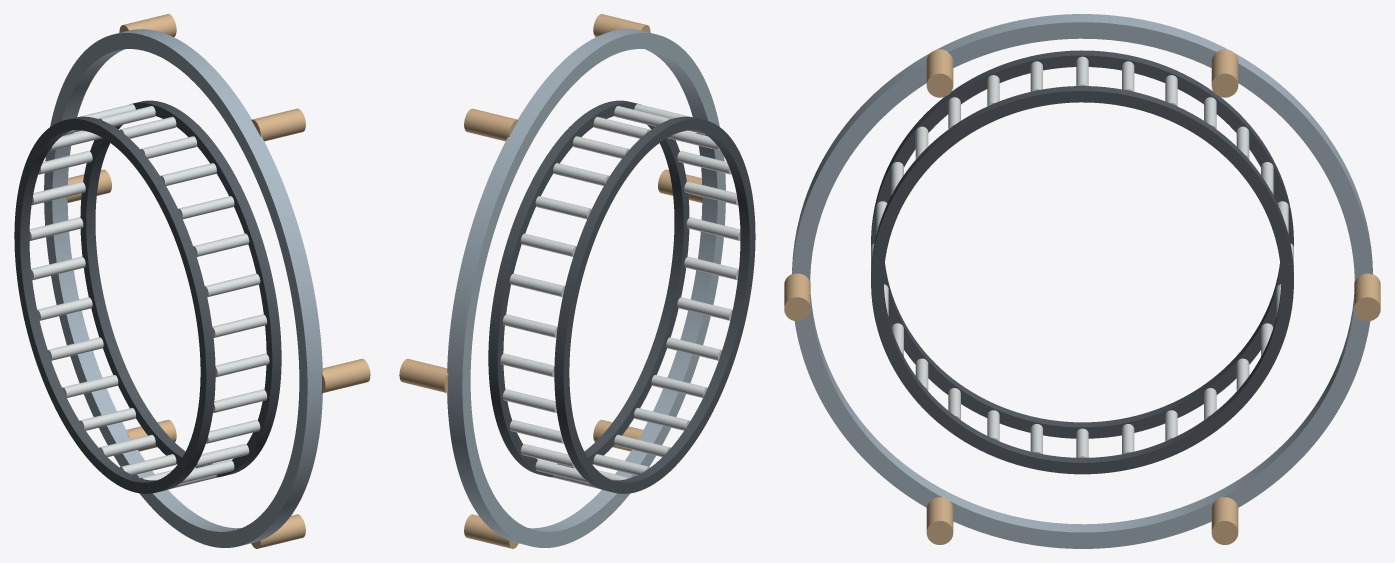
The model's file is bearing-roller-train.glb.
The picture shows the model from 3 angles, left to right: view 1: azimuth 30°, elevation 25°; view 2: azimuth 150°, elevation 25°; view 3: azimuth 270°, elevation 25°; orthographic projection. The views are drawn at different scales.
Visible parts, largest first — view 1: bearing-roller-train - seal, bearing-roller-train - steel, bearing-roller-train - fastener, bearing-roller-train - bronze; view 2: bearing-roller-train - seal, bearing-roller-train - steel, bearing-roller-train - fastener, bearing-roller-train - bronze; view 3: bearing-roller-train - steel, bearing-roller-train - seal, bearing-roller-train - fastener, bearing-roller-train - bronze.
Boxes of the visible parts, x1=… form: bearing-roller-train - seal: x1=14, y1=100, x2=281, y2=493; bearing-roller-train - steel: x1=44, y1=29, x2=322, y2=547; bearing-roller-train - fastener: x1=29, y1=104, x2=269, y2=488; bearing-roller-train - bronze: x1=66, y1=14, x2=370, y2=548; bearing-roller-train - seal: x1=488, y1=100, x2=755, y2=493; bearing-roller-train - steel: x1=447, y1=29, x2=725, y2=547; bearing-roller-train - fastener: x1=500, y1=104, x2=740, y2=488; bearing-roller-train - bronze: x1=399, y1=14, x2=703, y2=548; bearing-roller-train - steel: x1=792, y1=14, x2=1372, y2=548; bearing-roller-train - seal: x1=871, y1=50, x2=1293, y2=474; bearing-roller-train - fastener: x1=871, y1=56, x2=1293, y2=457; bearing-roller-train - bronze: x1=784, y1=49, x2=1380, y2=544.
Bounding box in the file's own units: 0.227 × 0.83 × 0.852.
